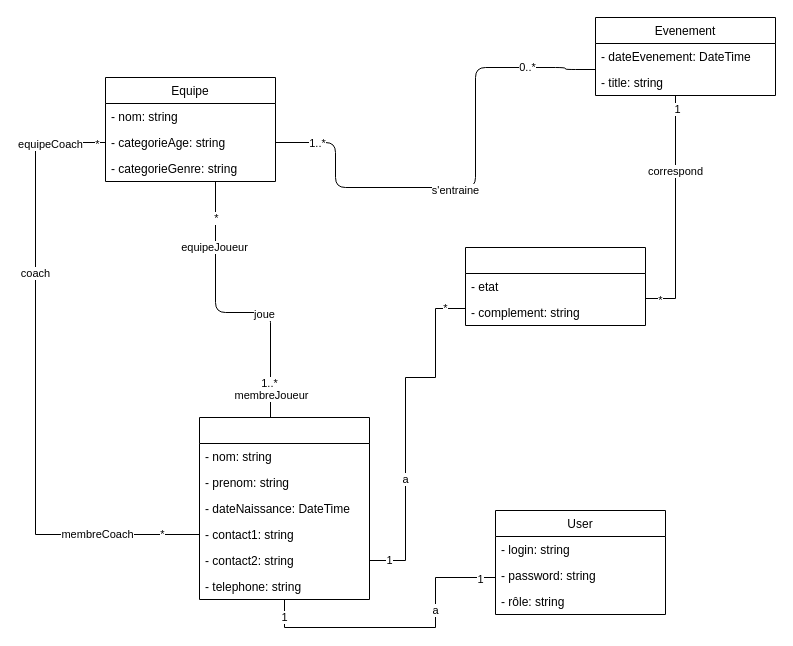
Image size: 793x646. Some labels were removed from this diagram. The shapes that lost their labels are listed below. From the top down, each one's box as (x1, y1, x2, y2) in pixels, then its label:
(464, 246, 646, 326): Présence
(198, 416, 370, 600): Personne
